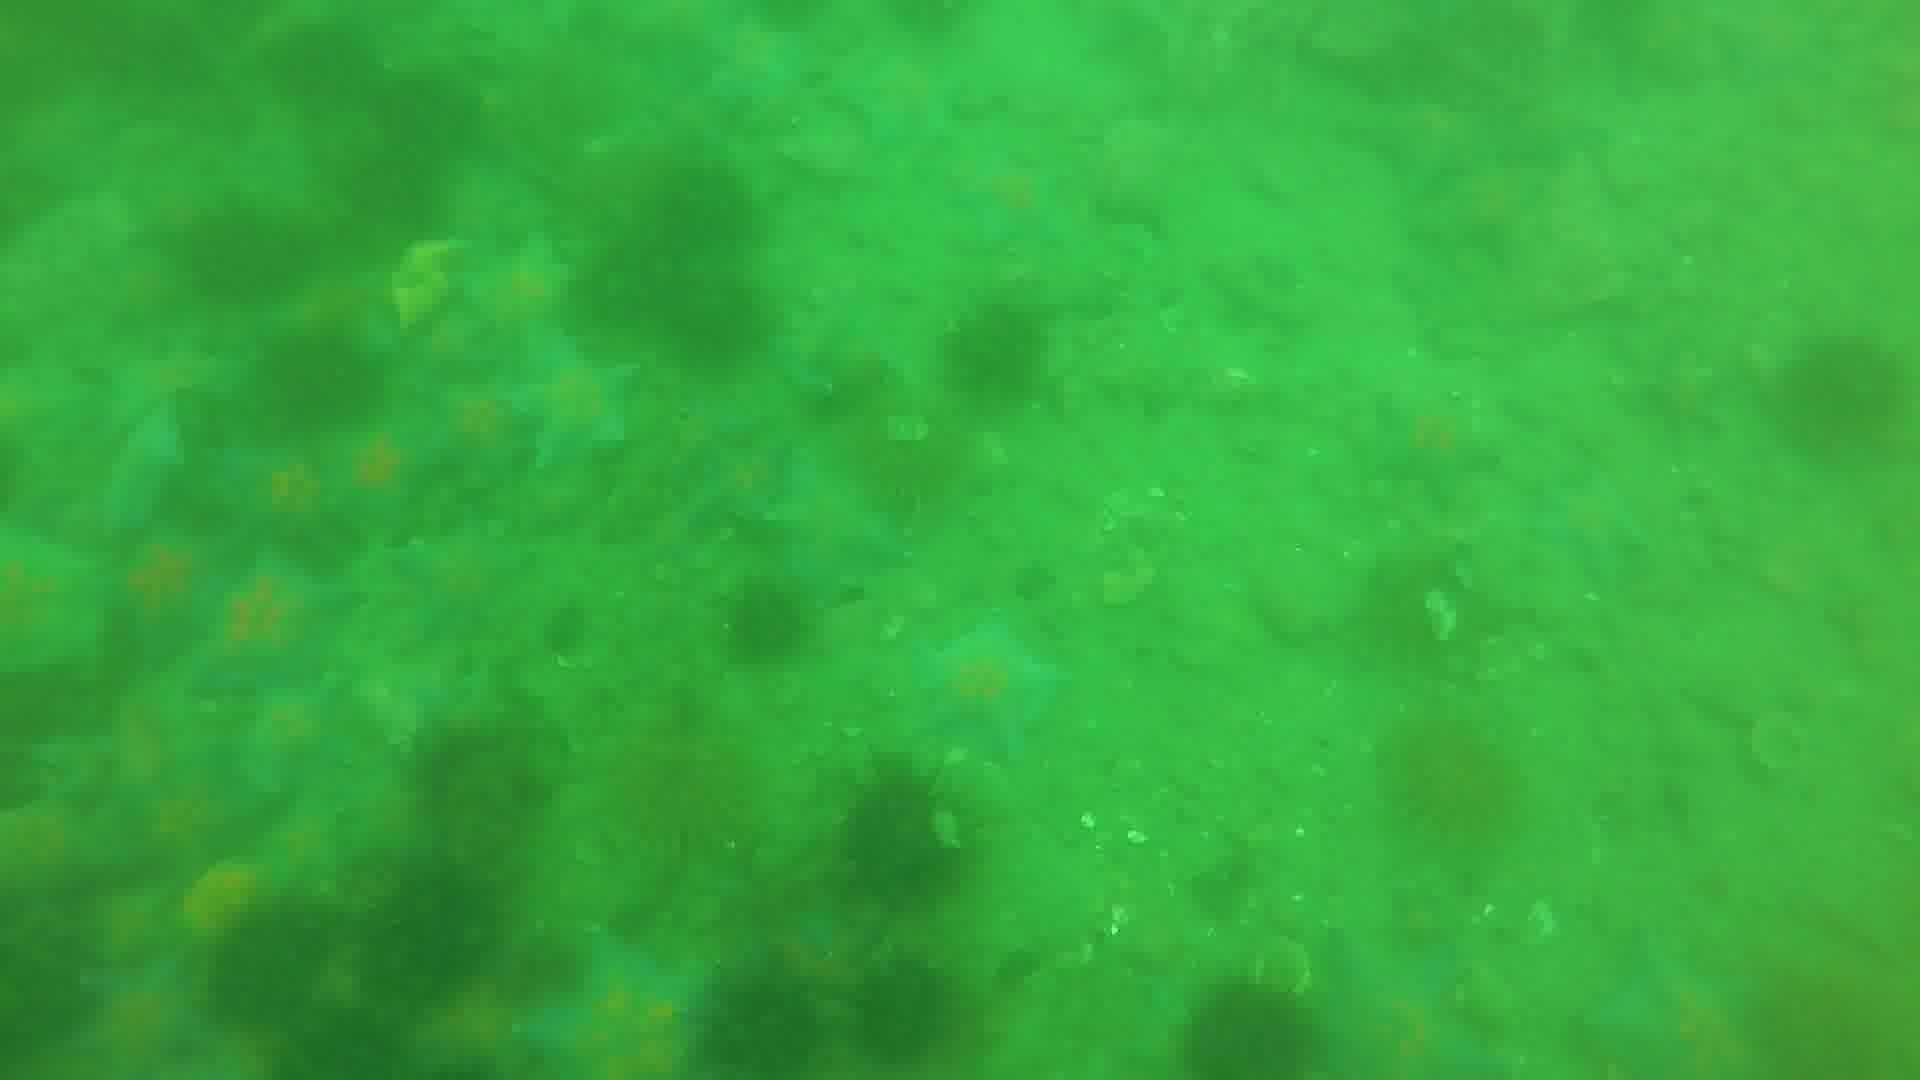echinus: (593, 700, 764, 858), (352, 856, 504, 1005), (407, 717, 549, 864), (833, 764, 973, 911), (204, 898, 352, 1036), (1379, 713, 1520, 844), (1775, 332, 1909, 460), (181, 855, 309, 973), (1178, 977, 1323, 1077), (694, 967, 825, 1076), (179, 200, 313, 309), (256, 326, 385, 434), (568, 231, 698, 338), (847, 953, 961, 1067), (851, 411, 973, 516), (657, 266, 773, 375), (938, 301, 1048, 406), (644, 160, 760, 258), (719, 579, 810, 669), (537, 599, 595, 663), (989, 944, 1044, 997)
scallop: (175, 855, 291, 960), (385, 233, 477, 335), (1746, 709, 1815, 779)
starfish: (1300, 932, 1499, 1080), (520, 931, 717, 1077), (1576, 936, 1776, 1080), (181, 554, 357, 699), (104, 745, 272, 887), (760, 454, 907, 607), (911, 621, 1067, 764), (61, 955, 212, 1077), (102, 527, 237, 663), (506, 342, 644, 471), (1, 525, 111, 686), (1344, 91, 1505, 199), (392, 522, 531, 644), (210, 438, 349, 556), (315, 418, 450, 537), (451, 231, 582, 351), (1364, 389, 1501, 500), (827, 49, 963, 156), (1, 790, 123, 909), (232, 678, 356, 793), (1527, 472, 1651, 585), (269, 258, 405, 361), (1422, 160, 1553, 265), (398, 984, 542, 1080), (419, 378, 539, 488), (105, 342, 240, 438), (951, 152, 1071, 251), (1619, 345, 1734, 442), (696, 20, 814, 113), (1709, 11, 1837, 96), (688, 431, 800, 527), (252, 796, 355, 899), (1487, 95, 1613, 175), (90, 244, 193, 338), (121, 166, 229, 255), (1378, 880, 1469, 957)
